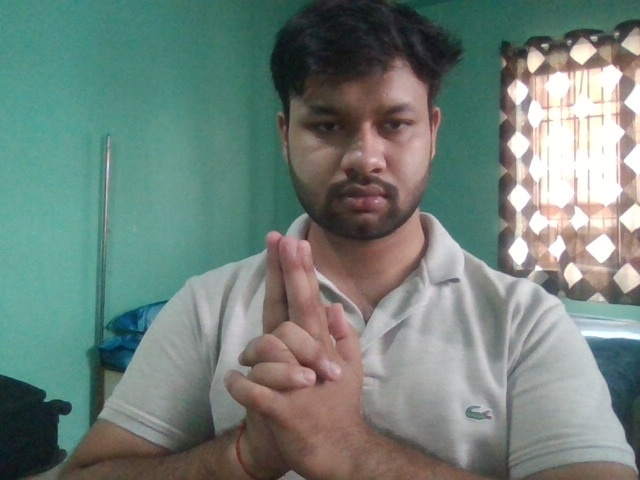1000 Years of Death: (219, 225, 367, 480)
